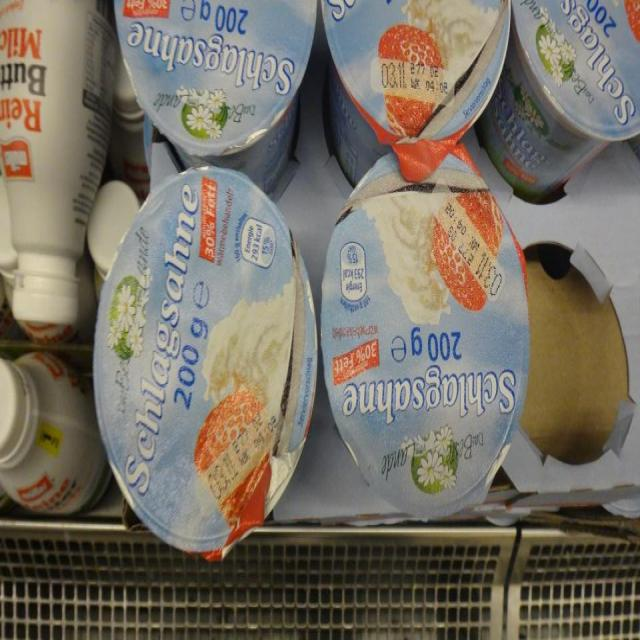Cream: (94, 167, 317, 559), (321, 146, 529, 520), (115, 0, 315, 193), (323, 0, 511, 183), (477, 0, 639, 201)
